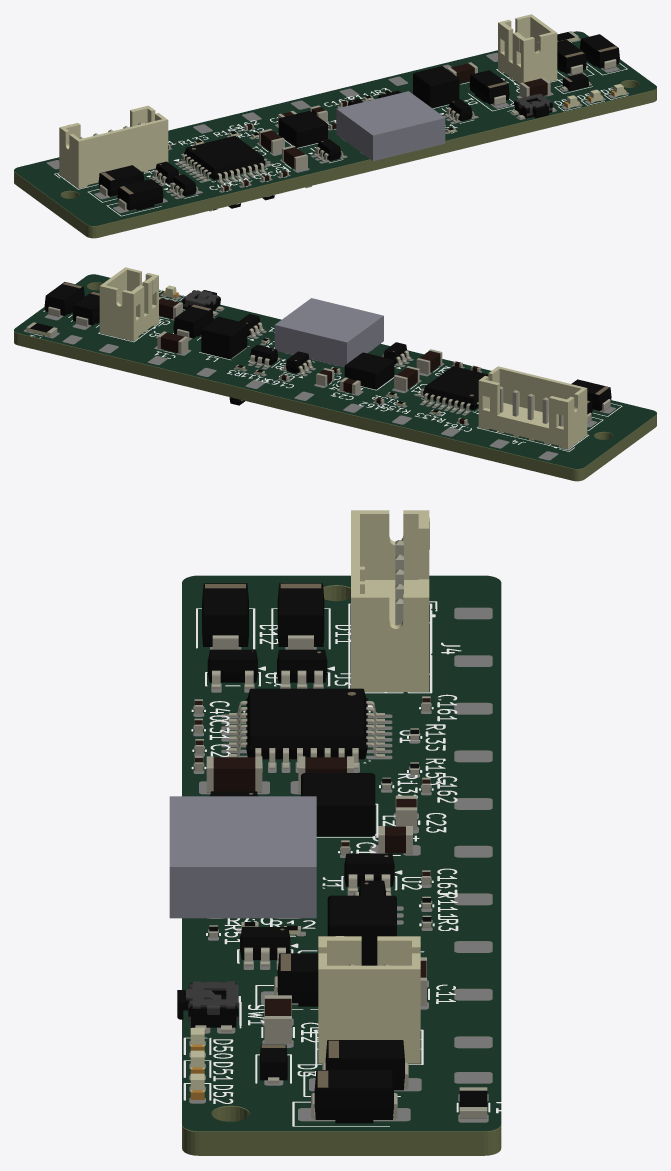
File: commander_bar_bms.dae
3 renders of one model, top to bottom at view 1: azimuth 30°, elevation 25°; view 2: azimuth 150°, elevation 25°; view 3: azimuth 270°, elevation 25°, orthographic. The views are drawn at different scales.
Visible parts, largest first — view 1: part_02, part_01, part_16, part_06, part_11, part_13, part_14, part_04, part_09, part_19, part_08, part_18 (+2 smaller); view 2: part_02, part_16, part_01, part_06, part_11, part_13, part_19, part_04, part_09, part_08, part_14, part_12 (+2 smaller); view 3: part_02, part_01, part_16, part_11, part_06, part_19, part_14, part_13, part_09, part_08, part_04, part_18 (+2 smaller).
Boxes of the visible parts, x1,y1,x2,y2 form: part_02: (14,31,656,225); part_01: (98,34,619,210); part_16: (59,14,557,188); part_06: (14,52,656,238); part_11: (336,91,445,161); part_13: (118,31,590,215); part_14: (99,59,616,197); part_04: (168,63,547,210); part_09: (47,53,628,213); part_19: (54,42,627,202); part_08: (155,38,619,196); part_18: (106,87,627,216); part_02: (14,274,656,468); part_16: (99,267,587,449); part_01: (44,282,611,416); part_06: (14,282,656,481); part_11: (274,298,383,367); part_13: (26,297,610,424); part_19: (30,309,603,451); part_04: (159,298,478,423); part_09: (45,293,615,460); part_08: (24,308,470,436); part_14: (48,306,591,422); part_12: (135,286,563,426); part_02: (182,575,501,1131); part_01: (177,583,404,1123); part_16: (318,510,429,1063); part_11: (169,796,316,918); part_06: (182,585,501,1155); part_19: (239,601,501,1126); part_14: (194,635,430,1119); part_13: (194,635,487,1118); part_09: (189,607,492,1121); part_08: (192,684,492,1122); part_04: (194,698,430,1015); part_18: (183,608,282,1103).
Bounding box in the file's own units: 75.8 × 19.11 × 9.4.
